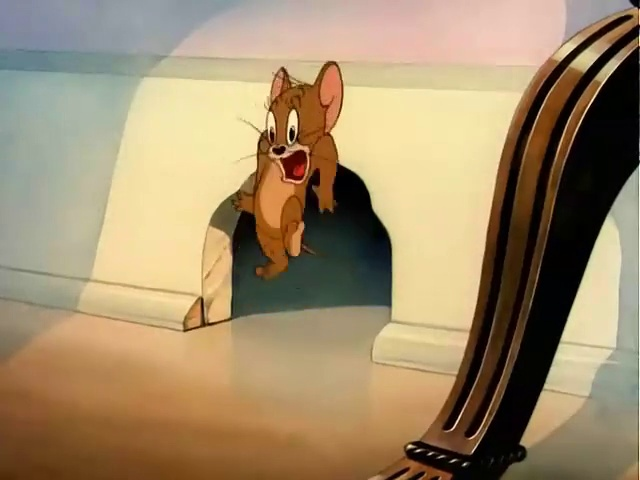jerry: (183, 60, 356, 324)
